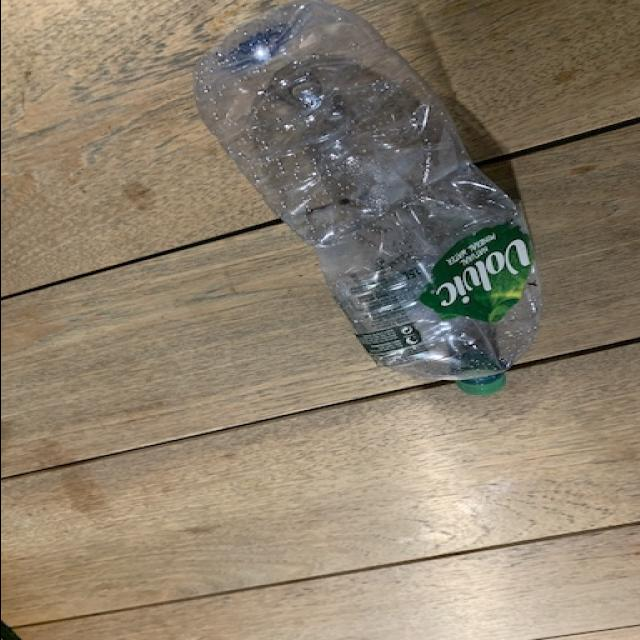litter: (182, 5, 540, 400)
